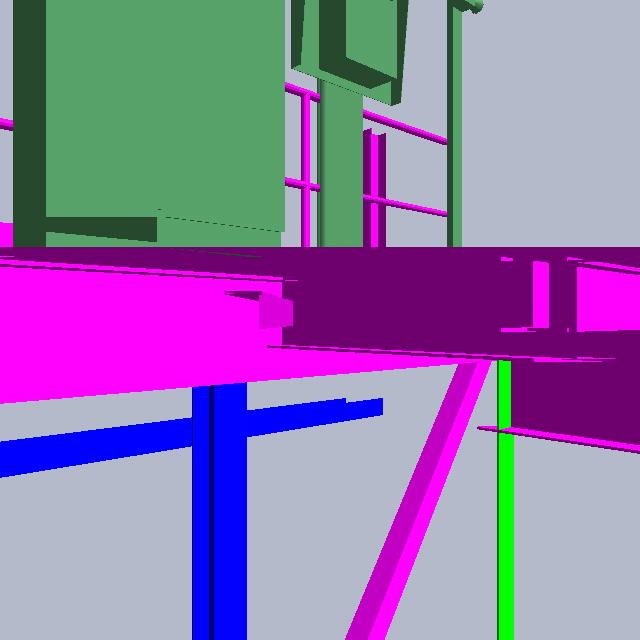Gabinete: (276, 1, 425, 302)
Soporte: (348, 108, 403, 262)
